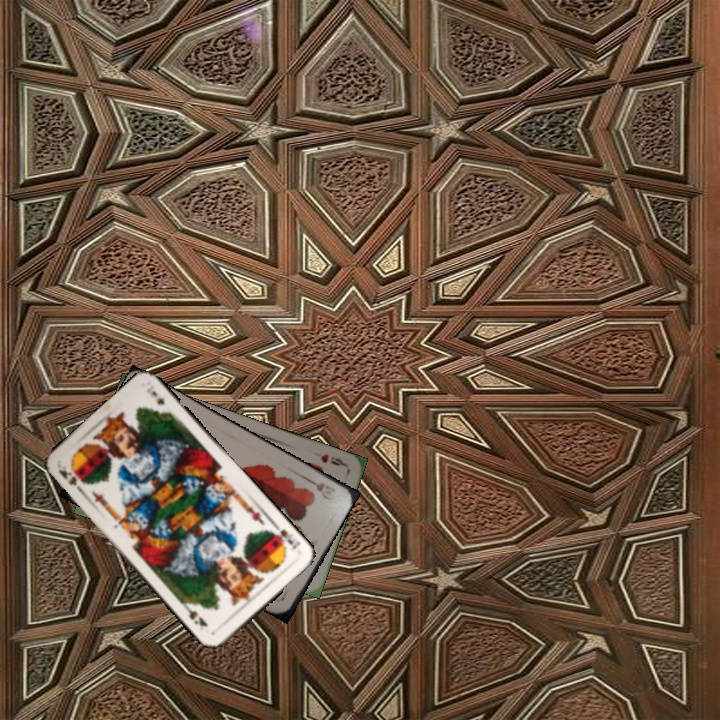H10: (302, 474, 338, 497)
H9: (317, 450, 349, 469)
SK: (55, 465, 87, 497), (267, 525, 303, 551)
